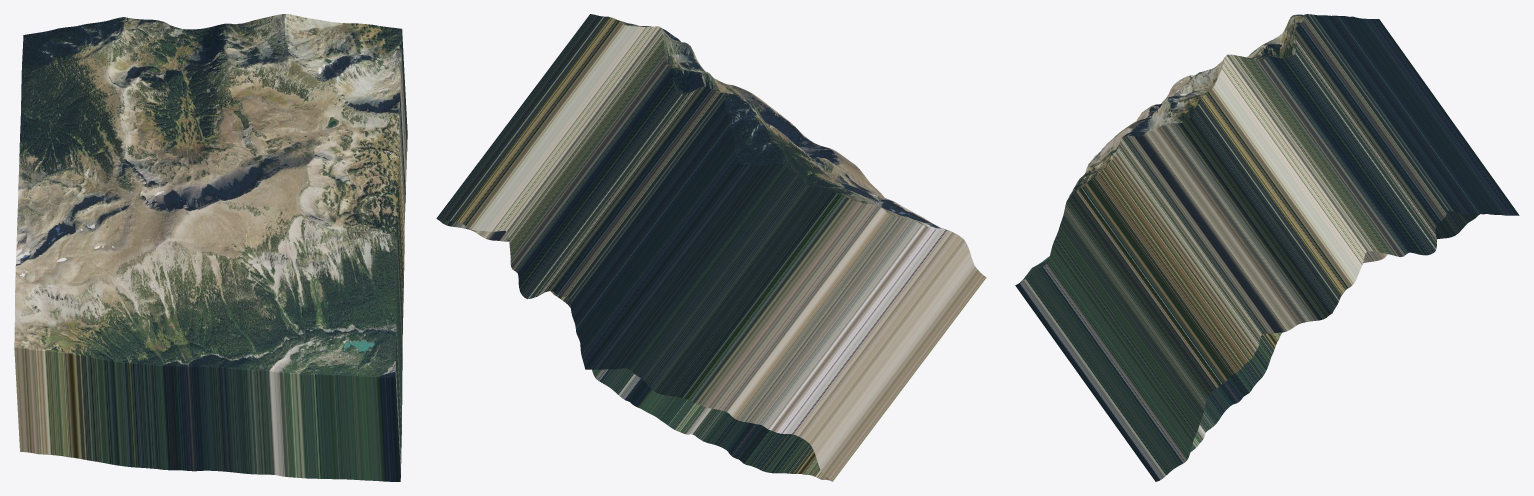
The picture shows the model from 3 angles, left to right: view 1: azimuth 30°, elevation 25°; view 2: azimuth 150°, elevation 25°; view 3: azimuth 270°, elevation 25°; orthographic projection. The views are drawn at different scales.
Size of the model in its own units: 6166 by 5418 by 6265.
Materials: 1 (1 with a texture image).
